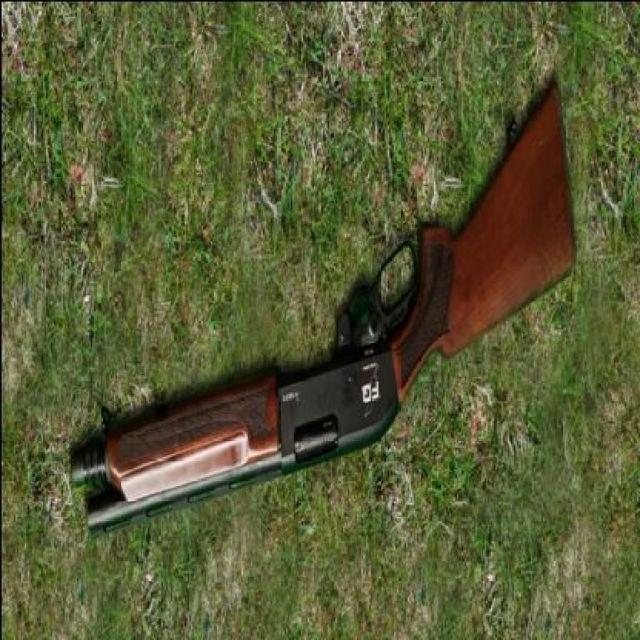weapon: (68, 76, 577, 536)
